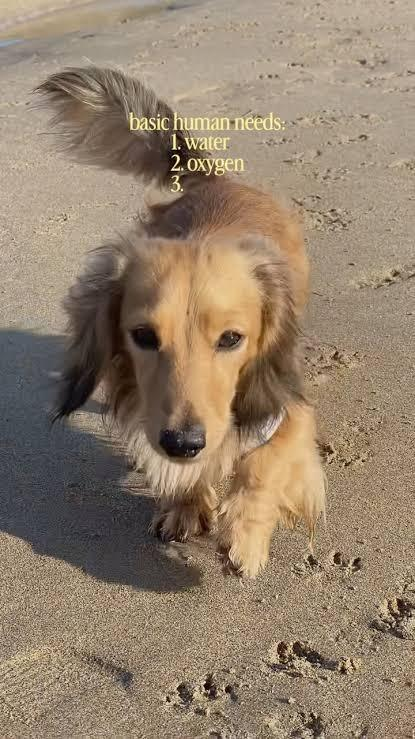adult_dog: (26, 63, 327, 583)
